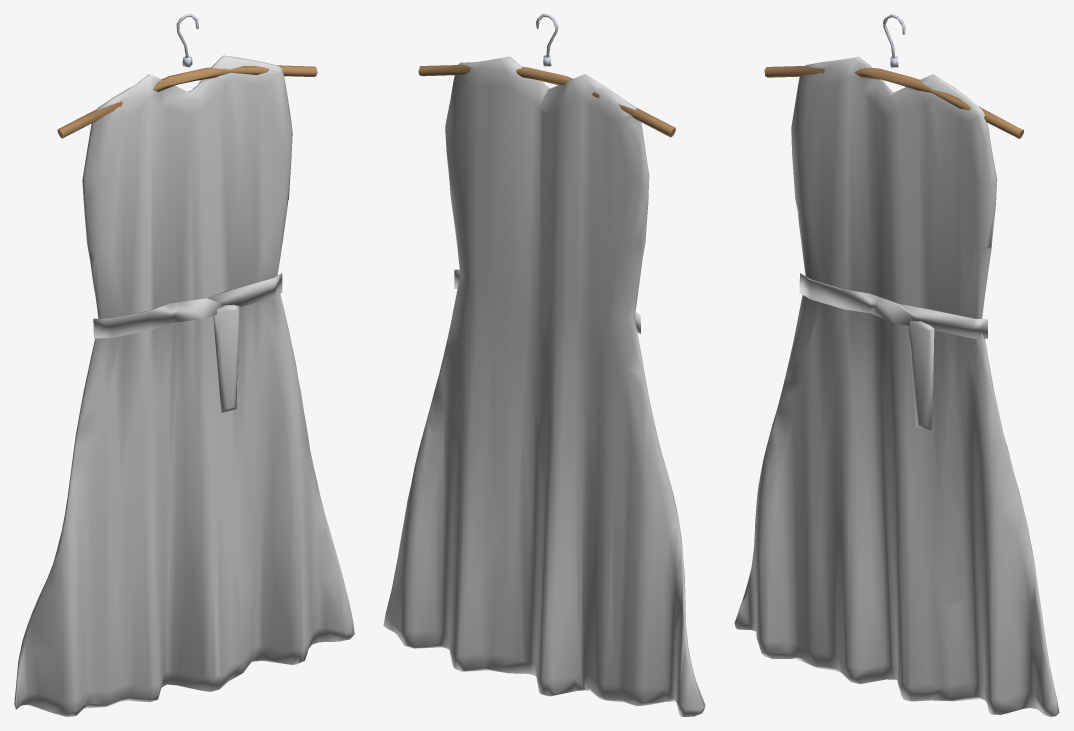
The model's file is dress-lightweight-1c8d639961.glb.
3 views of the same model, side by side, from view 1: azimuth 30°, elevation 25°; view 2: azimuth 150°, elevation 25°; view 3: azimuth 330°, elevation 25° (orthographic).
Parts seen in each view (by area): view 1: dress; view 2: dress; view 3: dress.
Boxes of the visible parts, x1,y1,x2,y2 form: dress: (14,14,354,716); dress: (383,14,705,716); dress: (734,14,1059,716).
Size of the model in its own units: 0.5342 by 1.04 by 0.0748.
